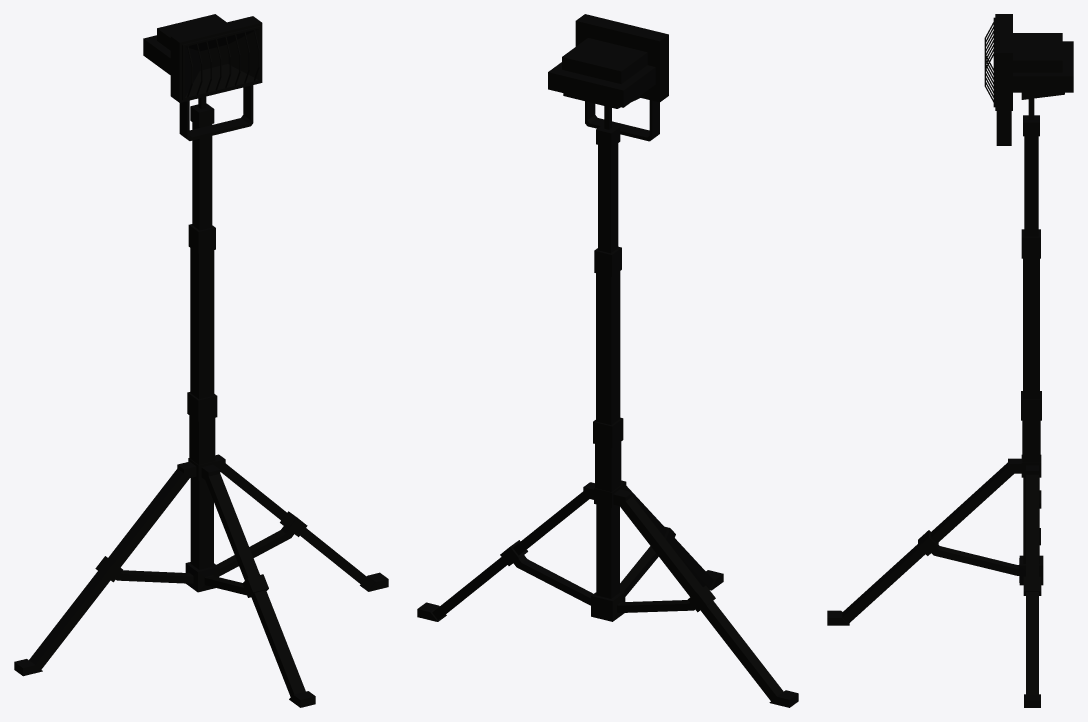
The model's file is SM_building_lamp_01.glb.
3 views of the same model, side by side, from view 1: azimuth 30°, elevation 25°; view 2: azimuth 150°, elevation 25°; view 3: azimuth 270°, elevation 25° (orthographic). The views are drawn at different scales.
Parts seen in each view (by area): view 1: SM_building_lamp_01; view 2: SM_building_lamp_01; view 3: SM_building_lamp_01.
Boxes of the visible parts, <box> form: SM_building_lamp_01: <box>14,14,388,707</box>; SM_building_lamp_01: <box>417,14,798,707</box>; SM_building_lamp_01: <box>827,14,1073,707</box>.
Bounding box in the file's own units: 0.5406 × 0.8612 × 0.3269.
1 material, 1 textured.
